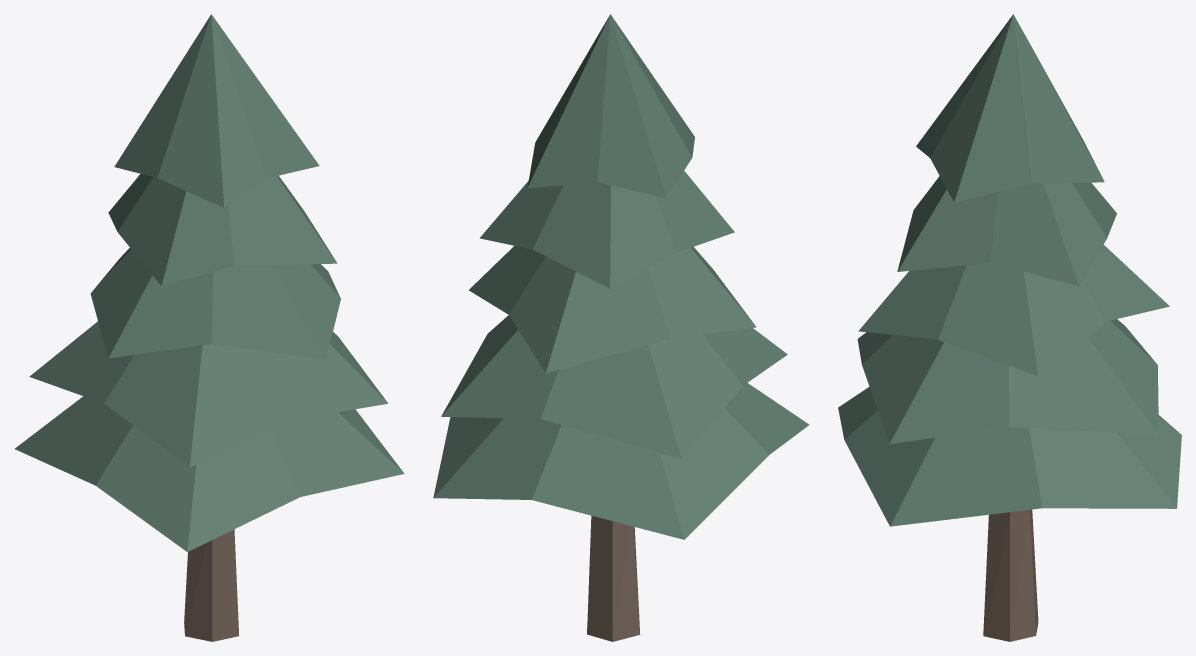
Rendered from Pine_Tall.glb.
3 views of the same model, side by side, from view 1: azimuth 30°, elevation 25°; view 2: azimuth 150°, elevation 25°; view 3: azimuth 270°, elevation 25° (orthographic).
Parts seen in each view (by area): view 1: Foliage, Trunk; view 2: Foliage, Trunk; view 3: Foliage, Trunk.
Part boxes in pixels (<box>): Foliage: <box>15,14,404,551</box>; Trunk: <box>184,529,238,641</box>; Foliage: <box>433,14,809,539</box>; Trunk: <box>587,515,640,641</box>; Foliage: <box>838,14,1181,526</box>; Trunk: <box>983,509,1038,641</box>.
Size of the model in its own units: 15.94 by 33.21 by 16.81.
